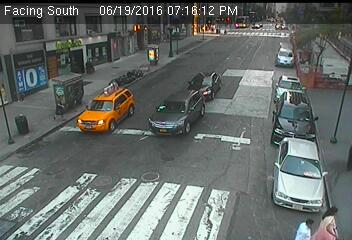neg: (67, 85, 98, 125), (294, 63, 322, 101), (189, 85, 209, 113), (245, 24, 259, 41)
pos: (315, 198, 343, 236), (294, 211, 313, 236)
